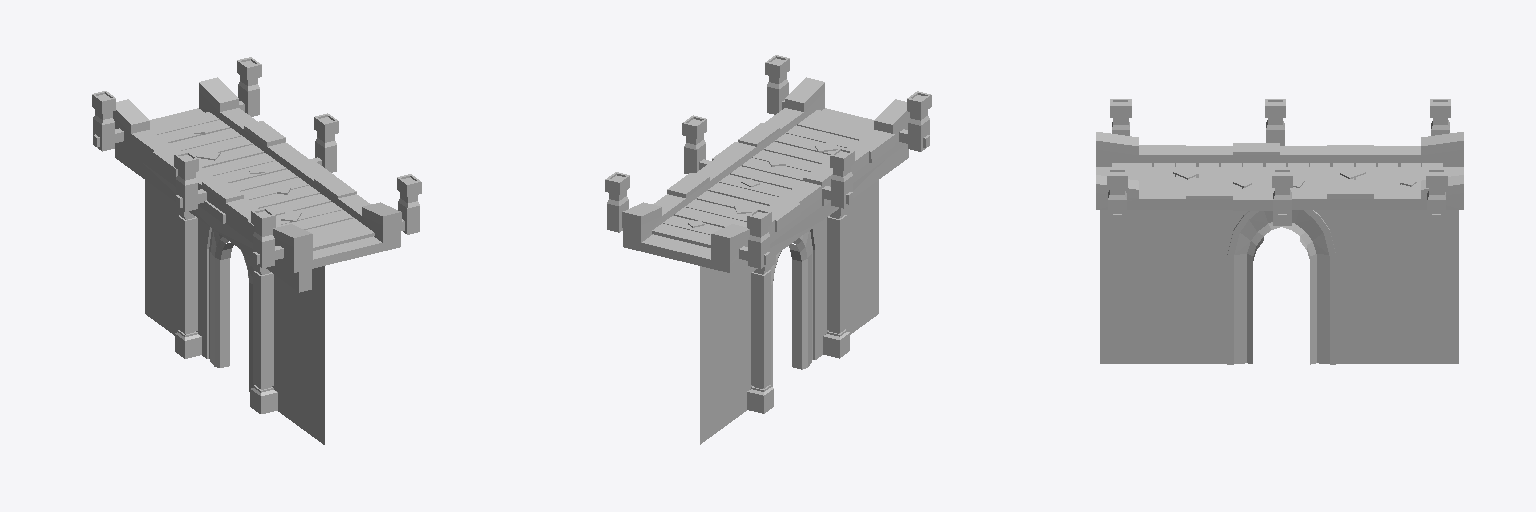
The model's file is SM_GrossePorte4_ROY.obj.
The picture shows the model from 3 angles: view 1: azimuth 30°, elevation 25°; view 2: azimuth 150°, elevation 25°; view 3: azimuth 270°, elevation 25°; orthographic projection.
Parts seen in each view (by area): view 1: Box001; view 2: Box001; view 3: Box001.
Part boxes in pixels (x1,y1,x2,y2): Box001: (92,57,421,444); Box001: (605,55,931,444); Box001: (1096,99,1463,364).
Size of the model in its own units: 8.93 by 12.56 by 17.65.